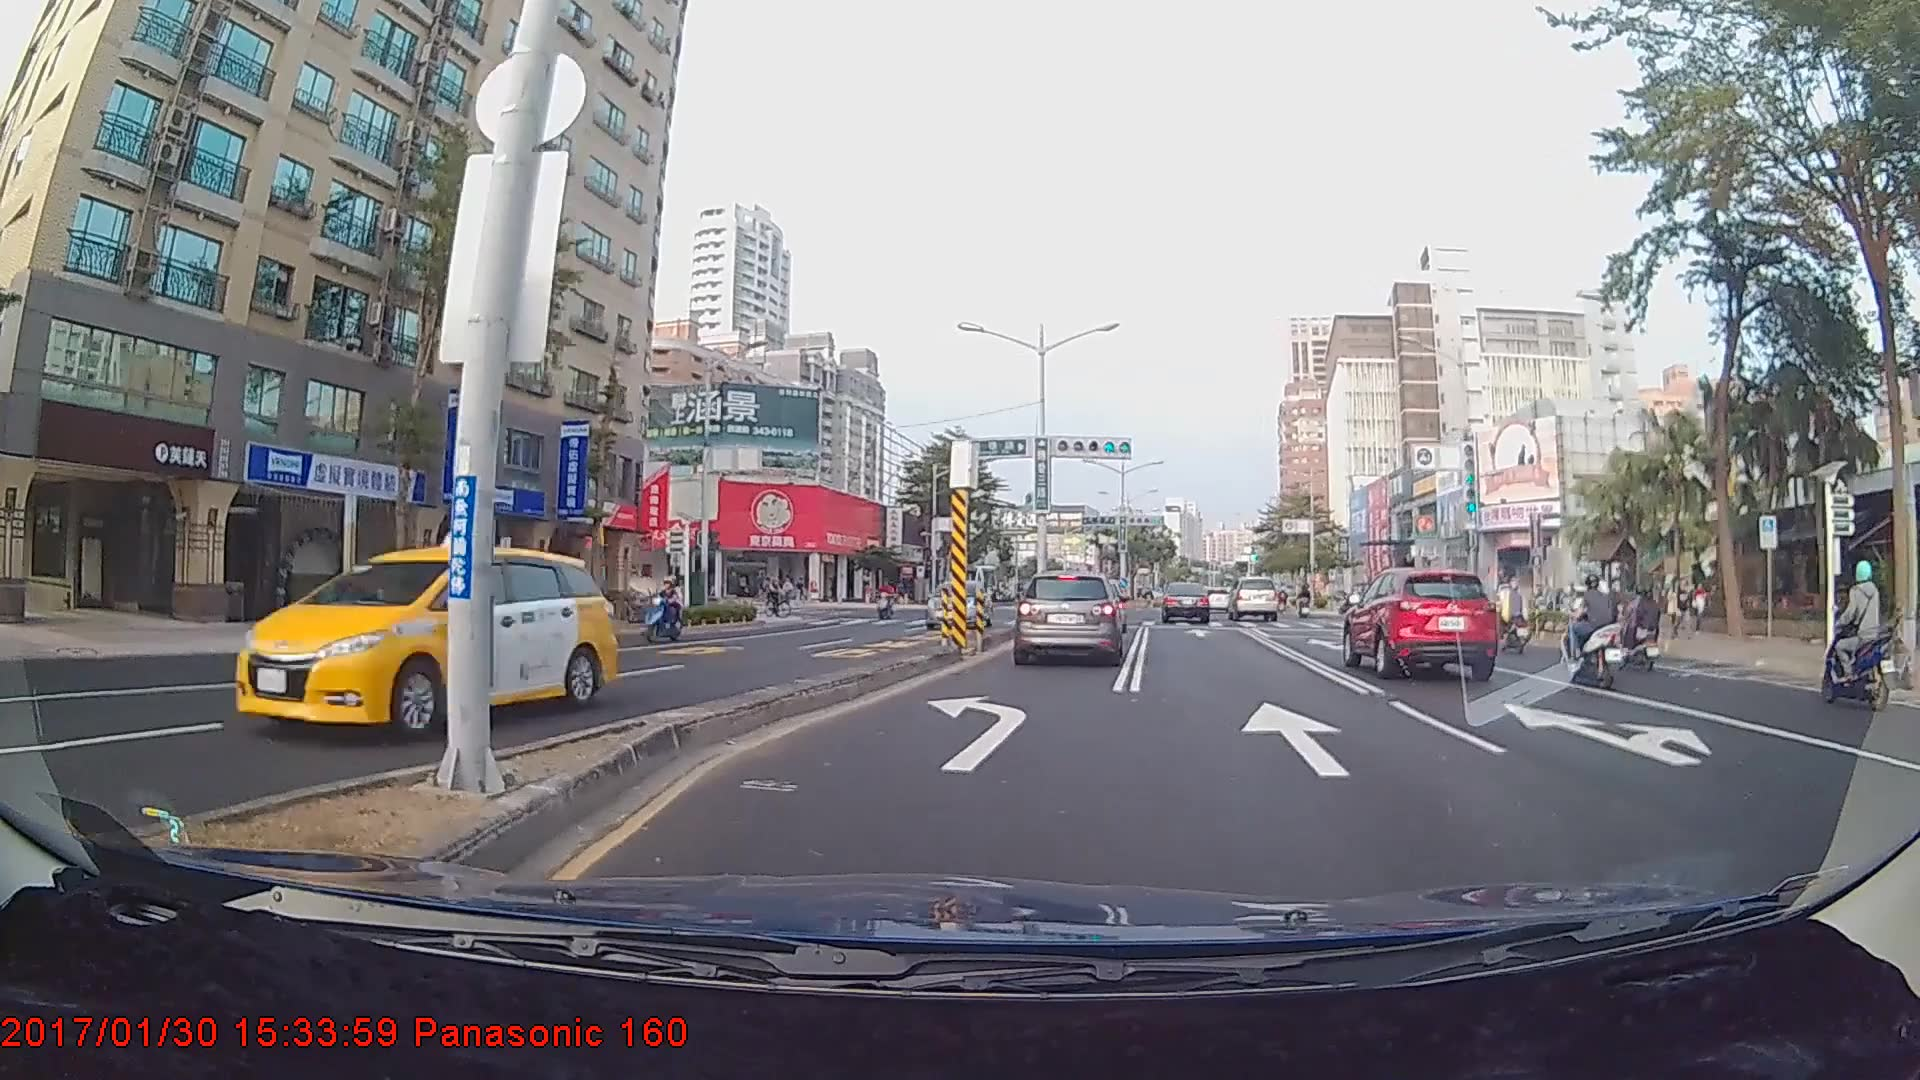pedestrian: (1671, 578, 1695, 642)
rider: (1808, 561, 1892, 720), (1556, 570, 1630, 687), (1609, 575, 1660, 674), (640, 576, 689, 648), (867, 577, 898, 624), (760, 576, 791, 621)
vehicle: (232, 544, 618, 739), (1343, 563, 1501, 680), (1013, 569, 1123, 667), (923, 579, 992, 628), (1226, 576, 1279, 622), (1162, 582, 1210, 623)
